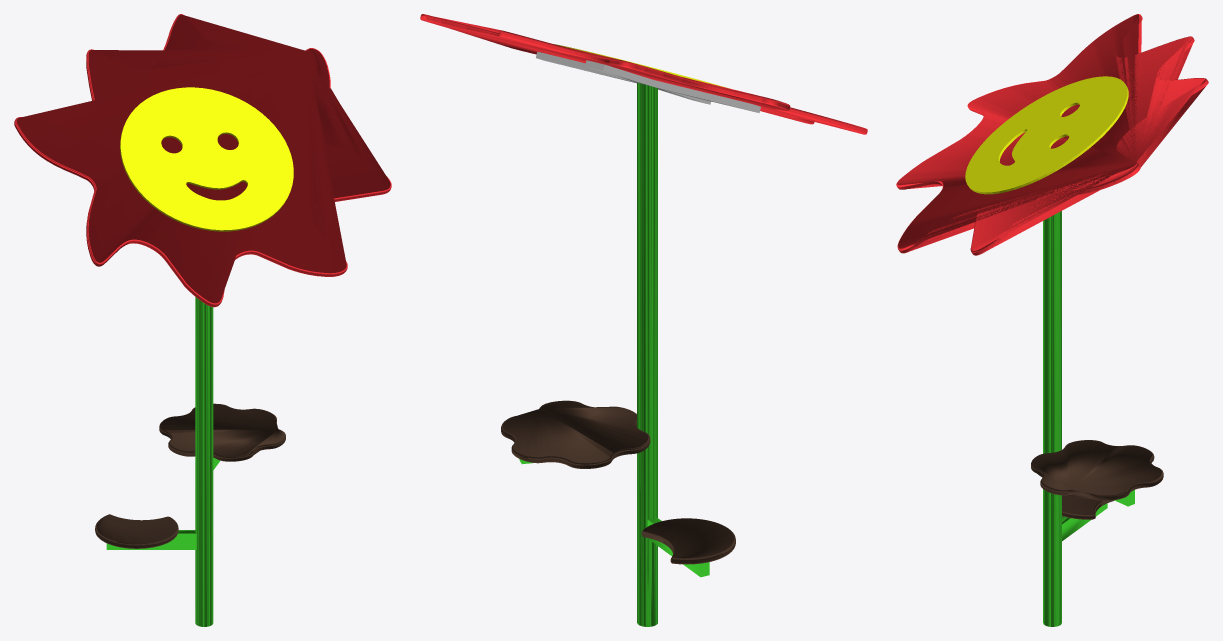
3 views of the same model, side by side, from view 1: azimuth 30°, elevation 25°; view 2: azimuth 150°, elevation 25°; view 3: azimuth 270°, elevation 25° (orthographic). The views are drawn at different scales.
Visible parts, largest first — view 1: D_78; view 2: D_78; view 3: D_78.
Part boxes in pixels (x1,y1,x2,y2): D_78: (14, 14, 391, 626); D_78: (420, 14, 867, 626); D_78: (896, 14, 1208, 626).
Size of the model in its own units: 118 by 201 by 100.
